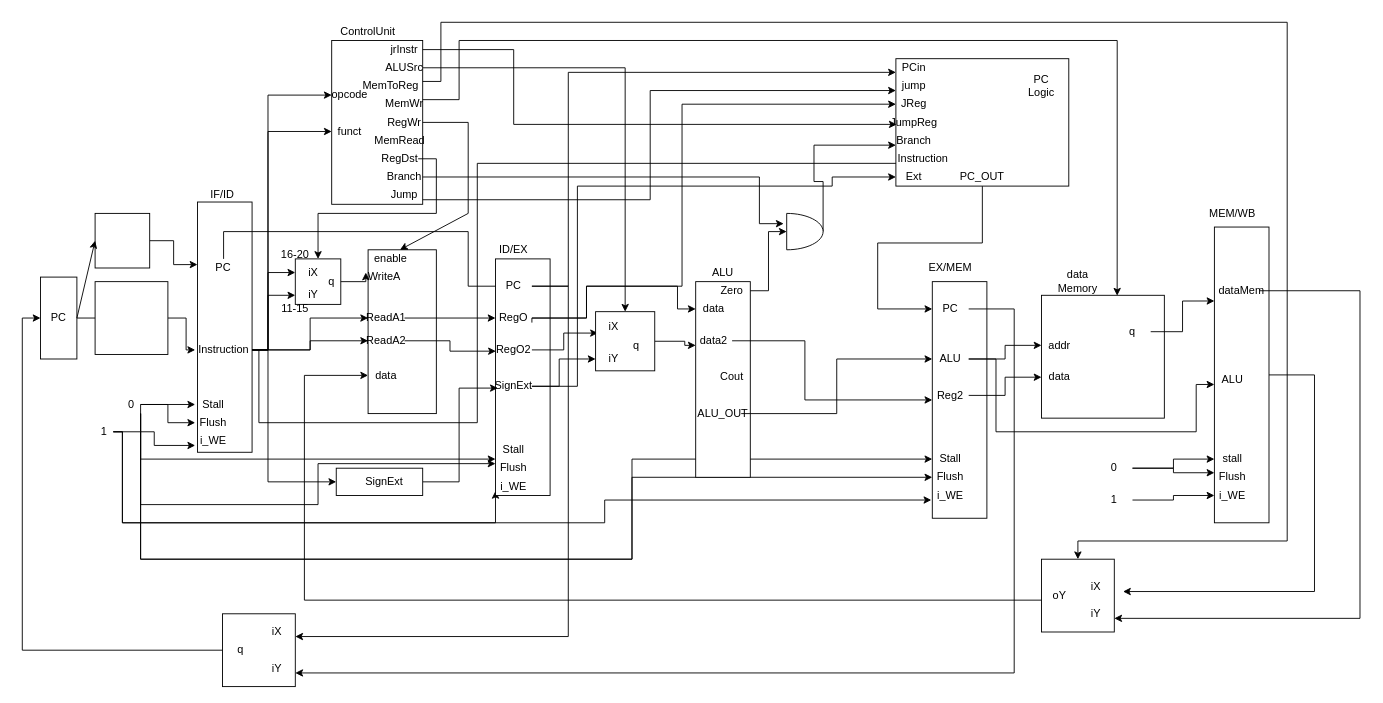
The diagram is 1383 pixels wide and 703 high, and some of its shapes have lost their labels. The centre of each missing label's shape, as x and y in pixels:
"Instruction Memory" goes at (x=131, y=317).
"PC=PC+4 logic" goes at (x=122, y=240).
